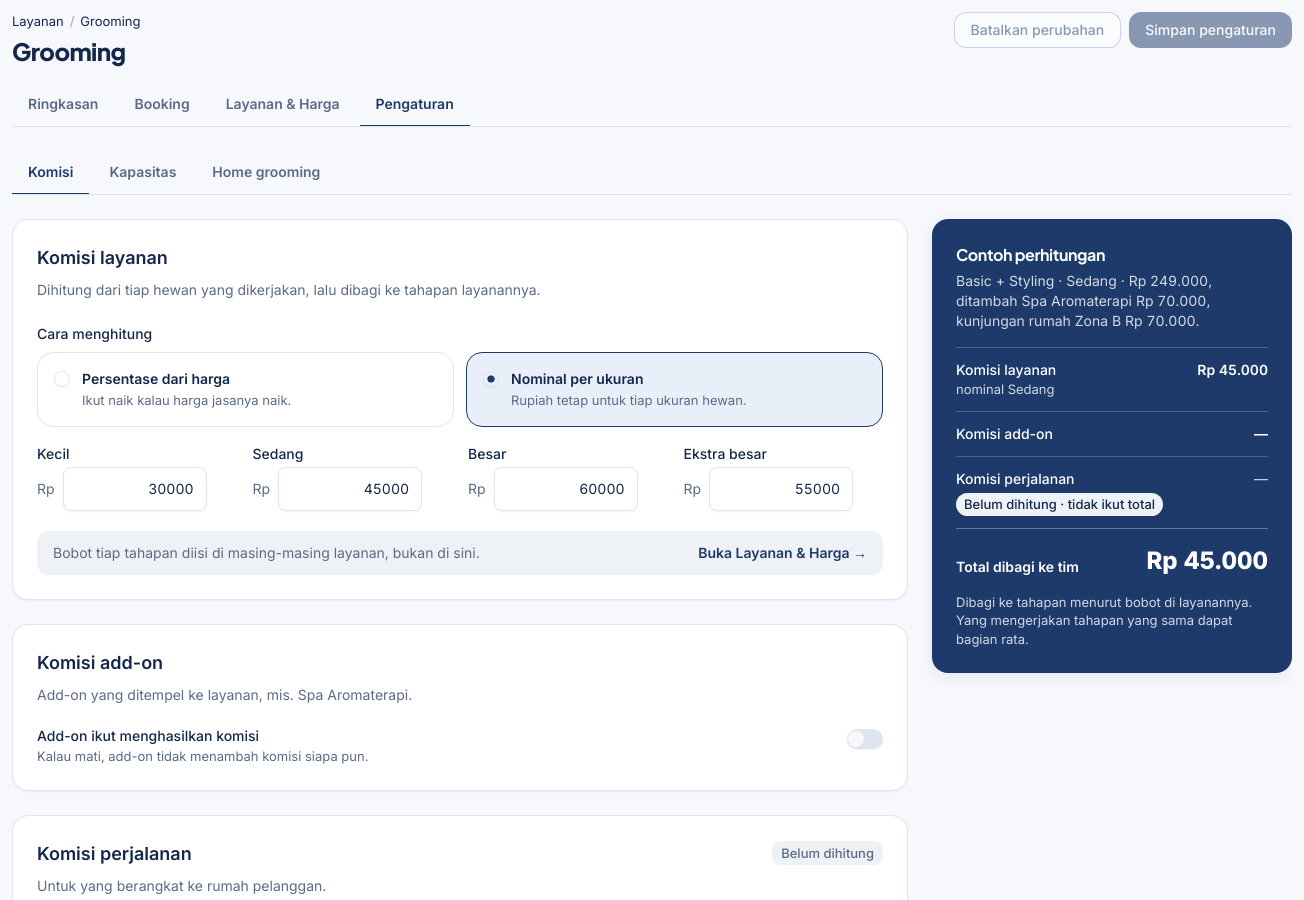
Test: GroomingSettingsScreen — Home grooming › shows the zones that already have a fee, with their range
Click the tab "Home grooming" at (266, 173), box [196,151,336,195]
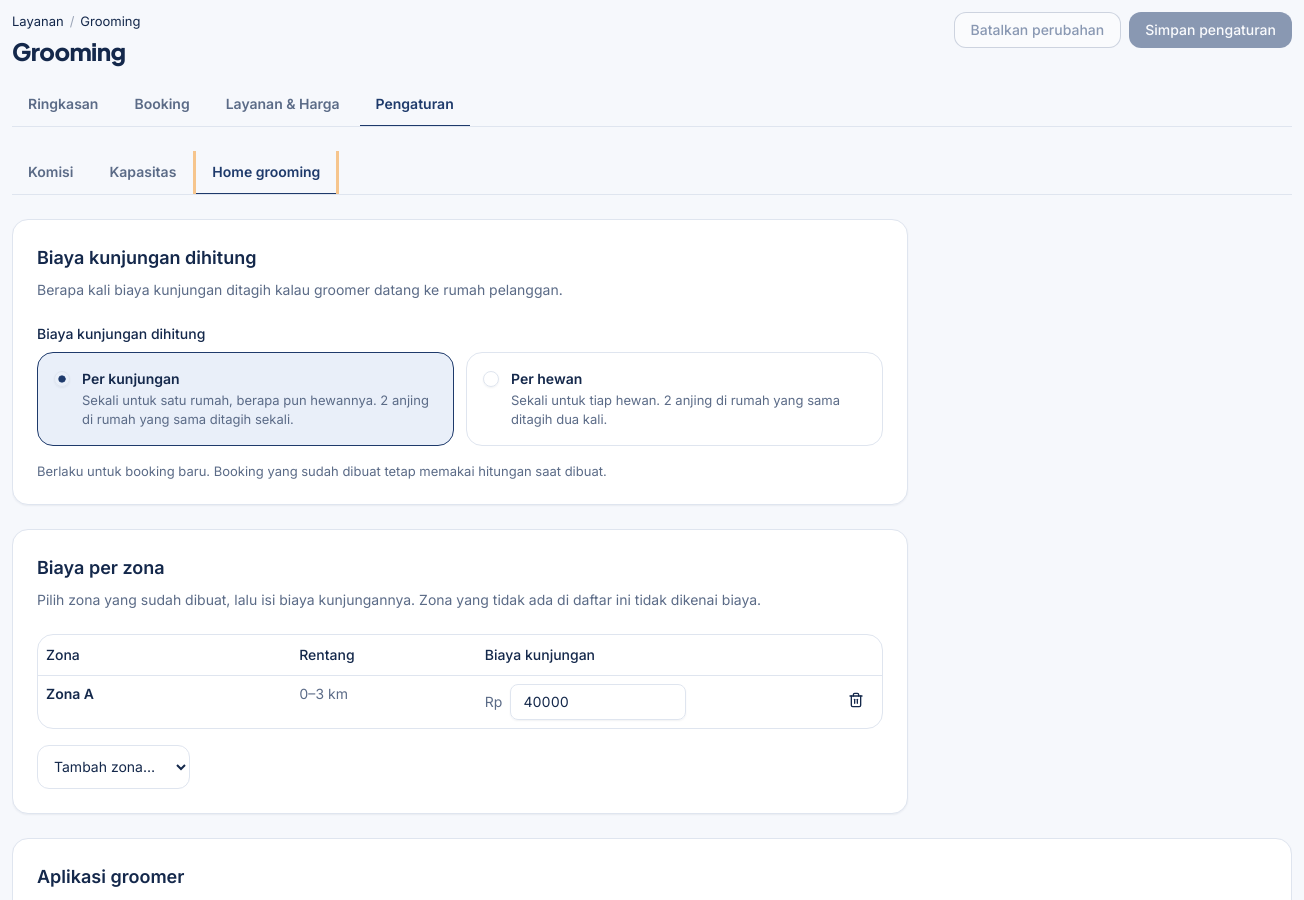
Expected: the field named "Biaya kunjungan Zona A" holds "40000", [510,684,686,720]
Expected: the text "0–3 km" is shown, [291,675,477,728]
